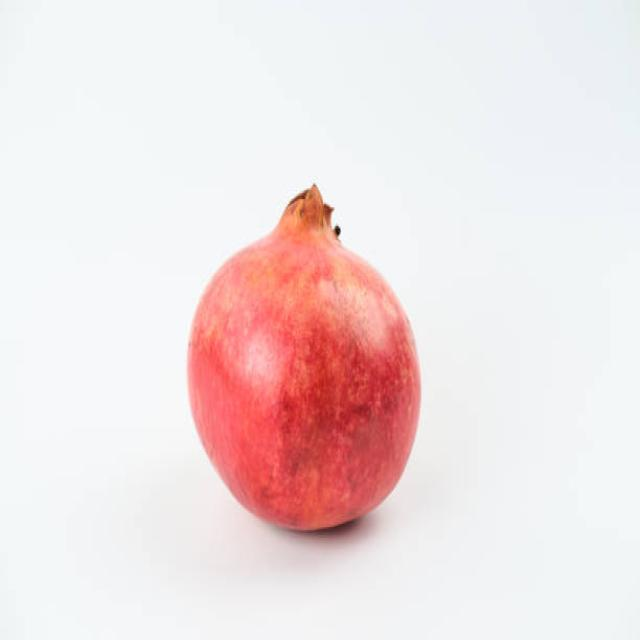Ripe: (186, 185, 424, 533)
